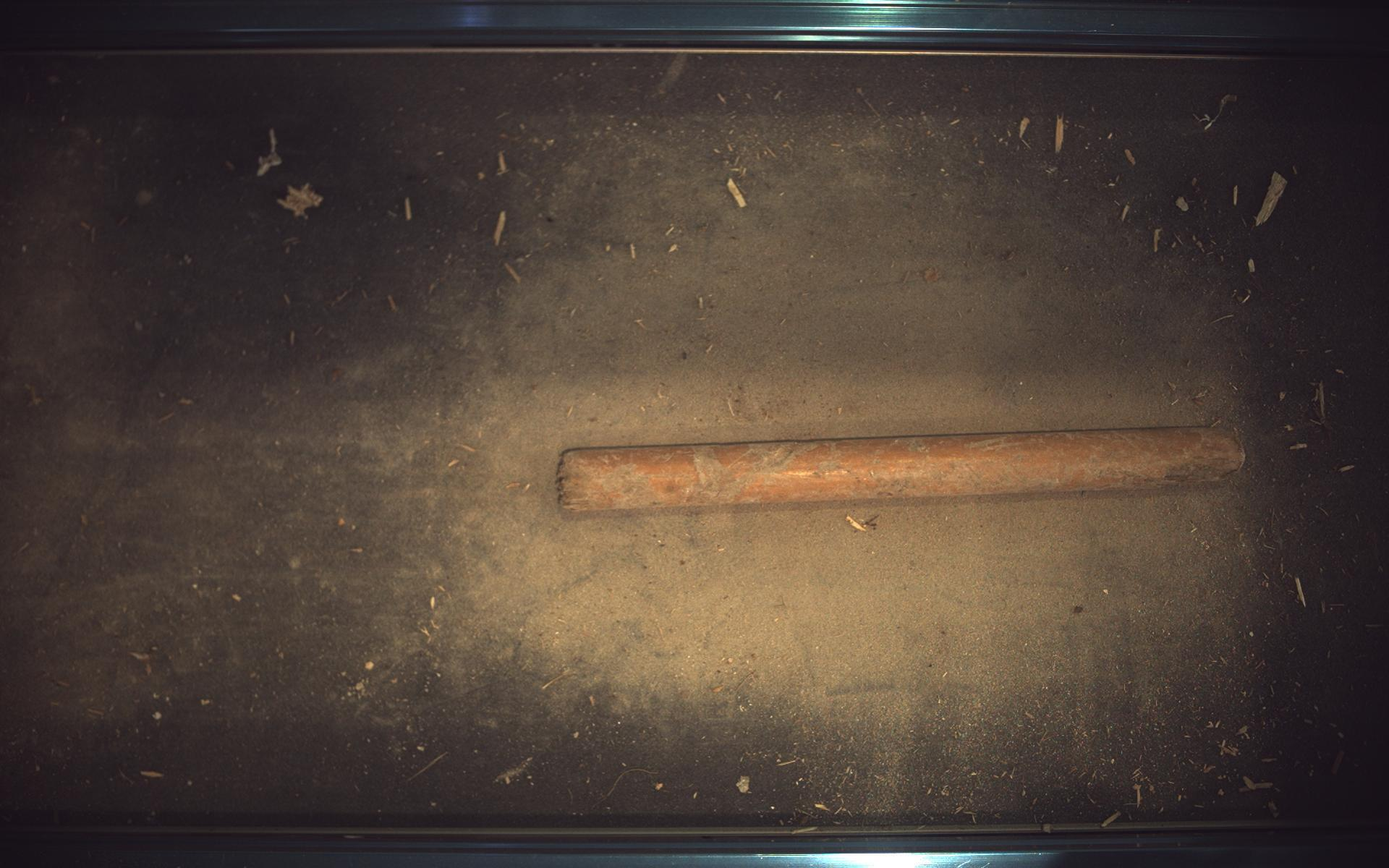wood: (558, 427, 1248, 513)
